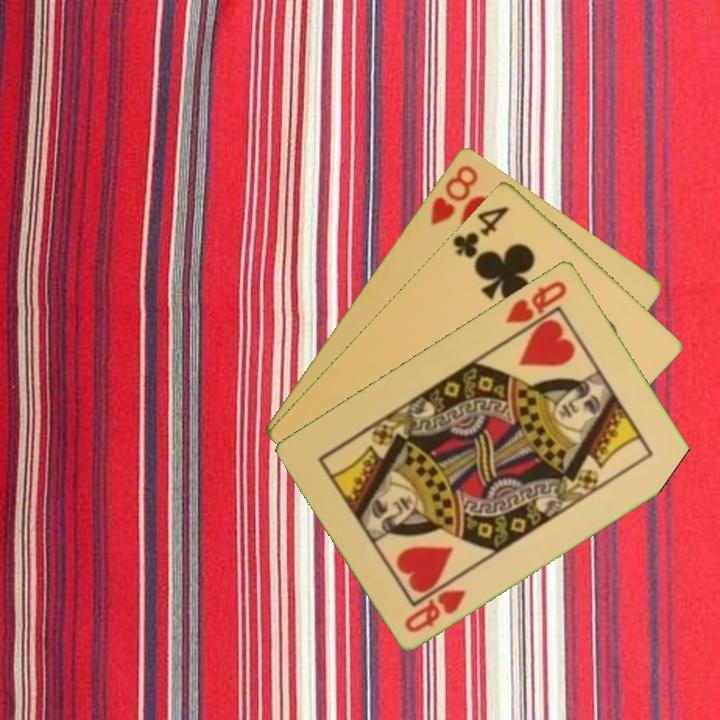4c: (449, 201, 512, 261)
8h: (426, 160, 481, 229)
Qh: (501, 276, 570, 338), (401, 585, 469, 635)
